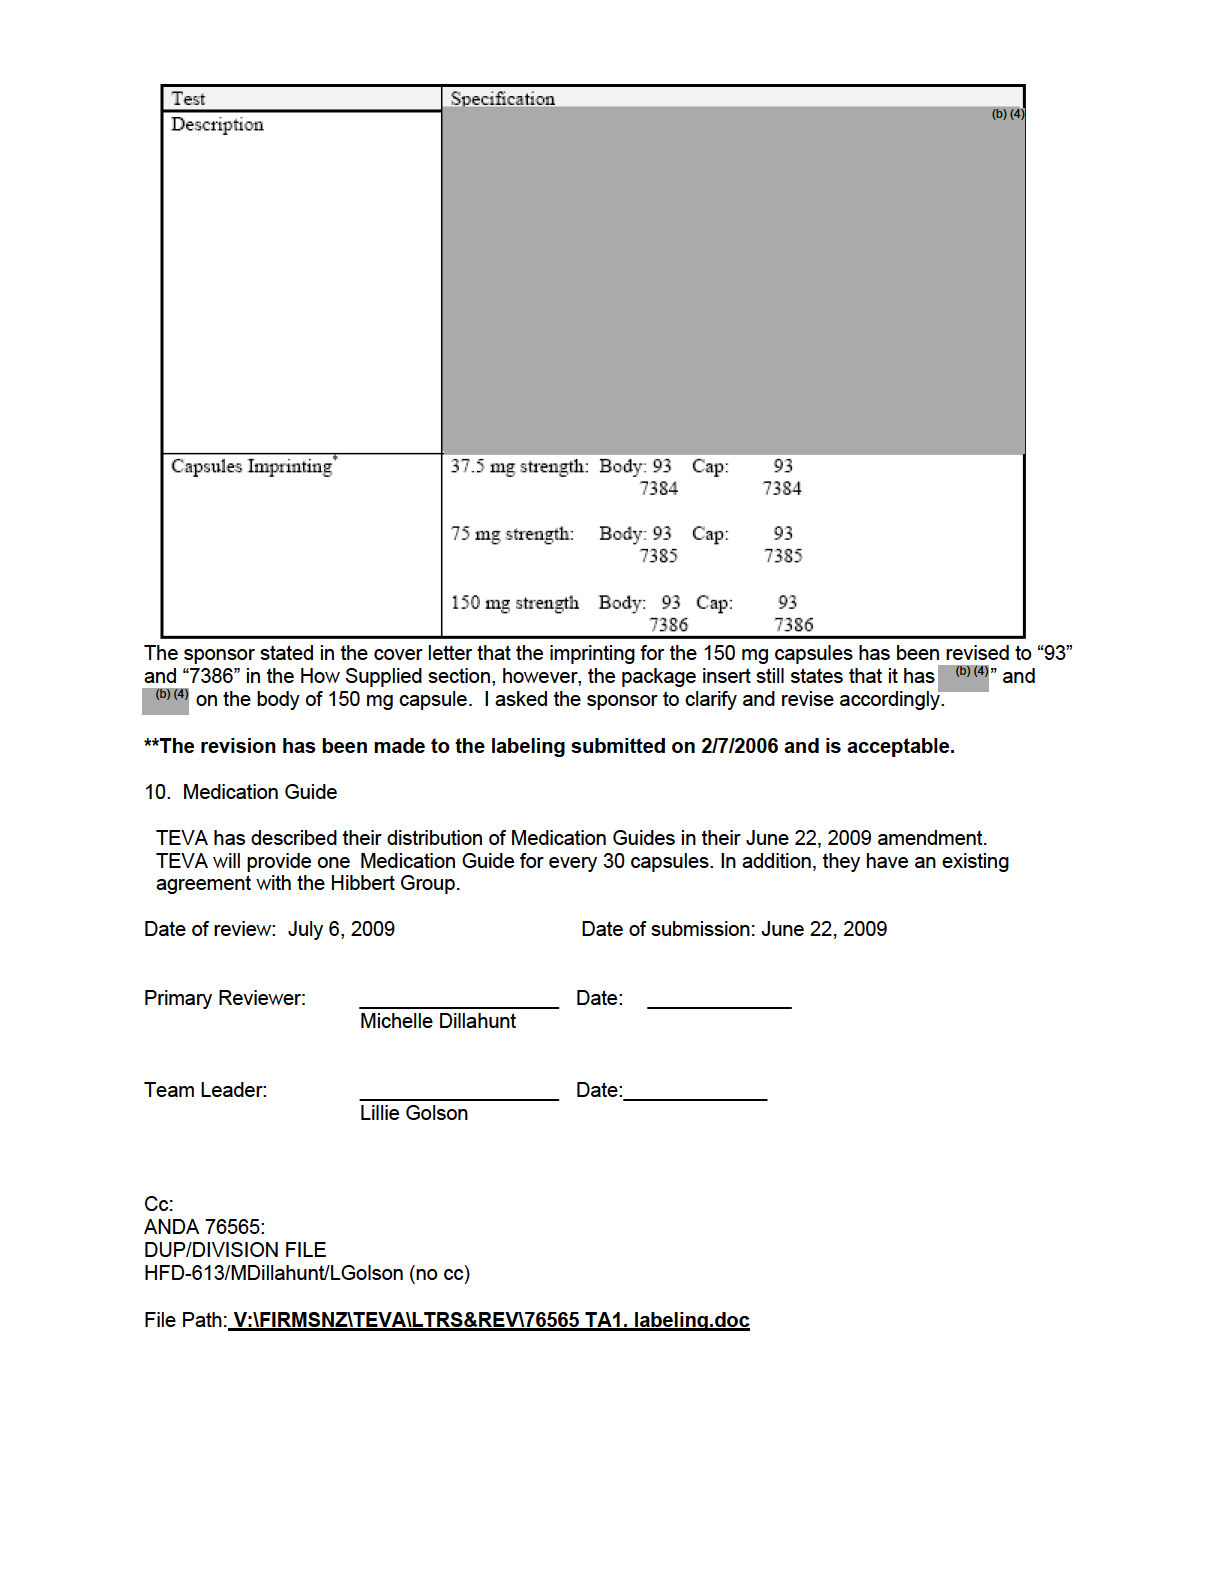full_lined: (159, 84, 1027, 640)
nolines: (141, 918, 894, 1126)
